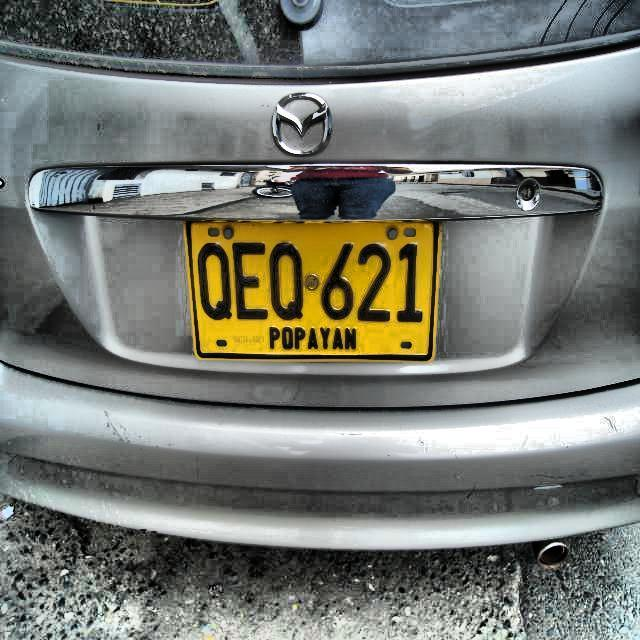plate: (185, 220, 443, 363)
